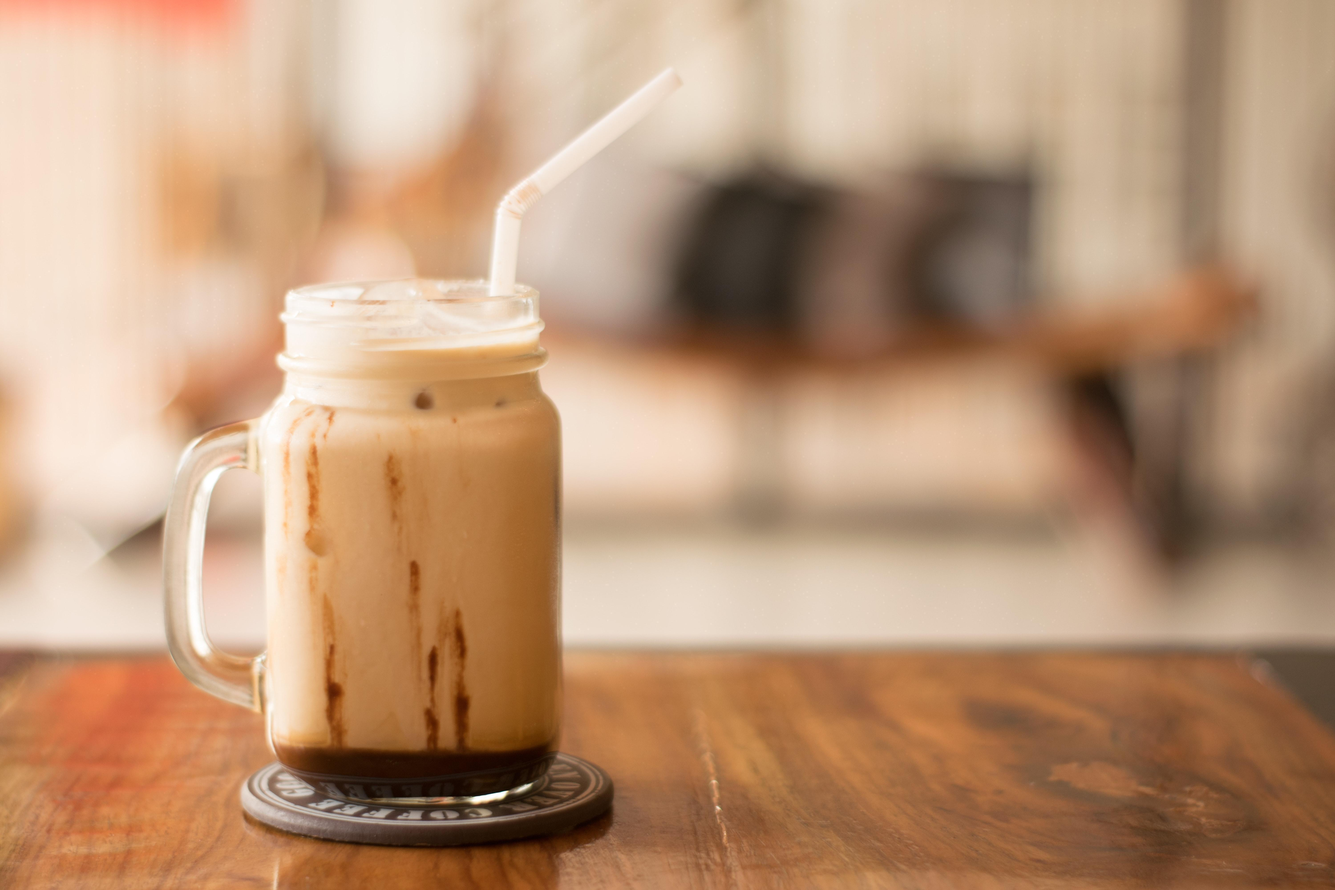glass-mug: (154, 276, 575, 811)
